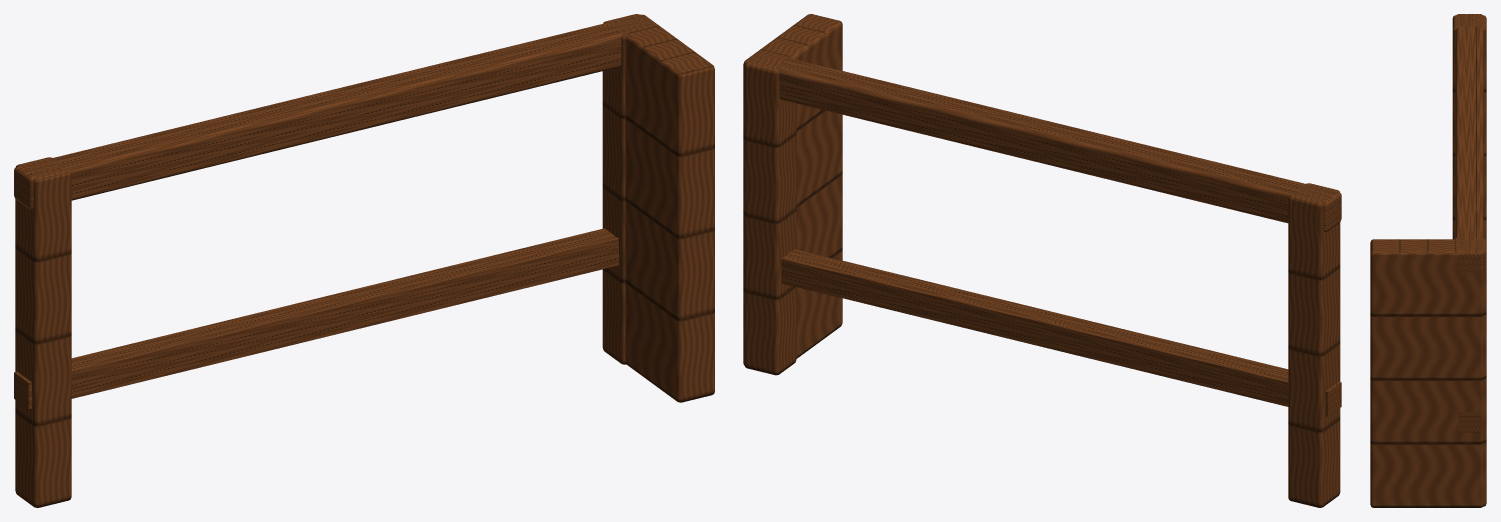
File: modular-survival-base-builder-end-guardrail-9b41ad4c__24228.glb
3 views of the same model, side by side, from view 1: azimuth 30°, elevation 25°; view 2: azimuth 150°, elevation 25°; view 3: azimuth 270°, elevation 25° (orthographic). The views are drawn at different scales.
Parts seen in each view (by area): view 1: end-guardrail; view 2: end-guardrail; view 3: end-guardrail.
Boxes of the visible parts, left/top/right/bottom form: end-guardrail: left=14, top=14, right=714, bottom=507; end-guardrail: left=743, top=14, right=1341, bottom=507; end-guardrail: left=1370, top=14, right=1486, bottom=507.
Bounding box in the file's own units: 2 × 1 × 0.4099.
Materials: 1 (1 with a texture image).
